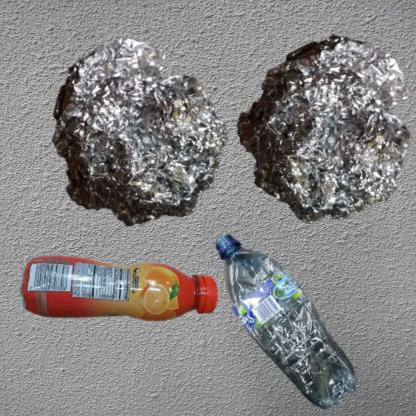aluminio: (10, 10, 289, 299), (213, 10, 416, 262)
botella: (10, 213, 272, 405), (213, 213, 378, 416)
